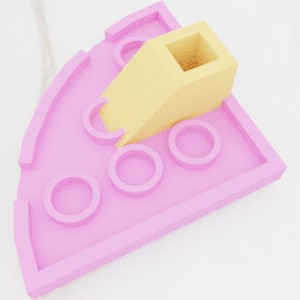lego: (13, 0, 287, 299), (93, 19, 238, 156)
